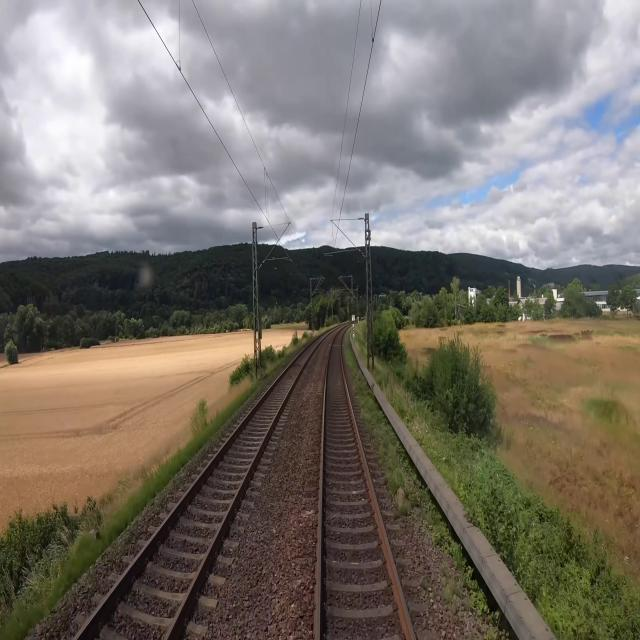Plant: (343, 332, 492, 627), (439, 560, 458, 605), (486, 610, 510, 639), (421, 577, 428, 591)
